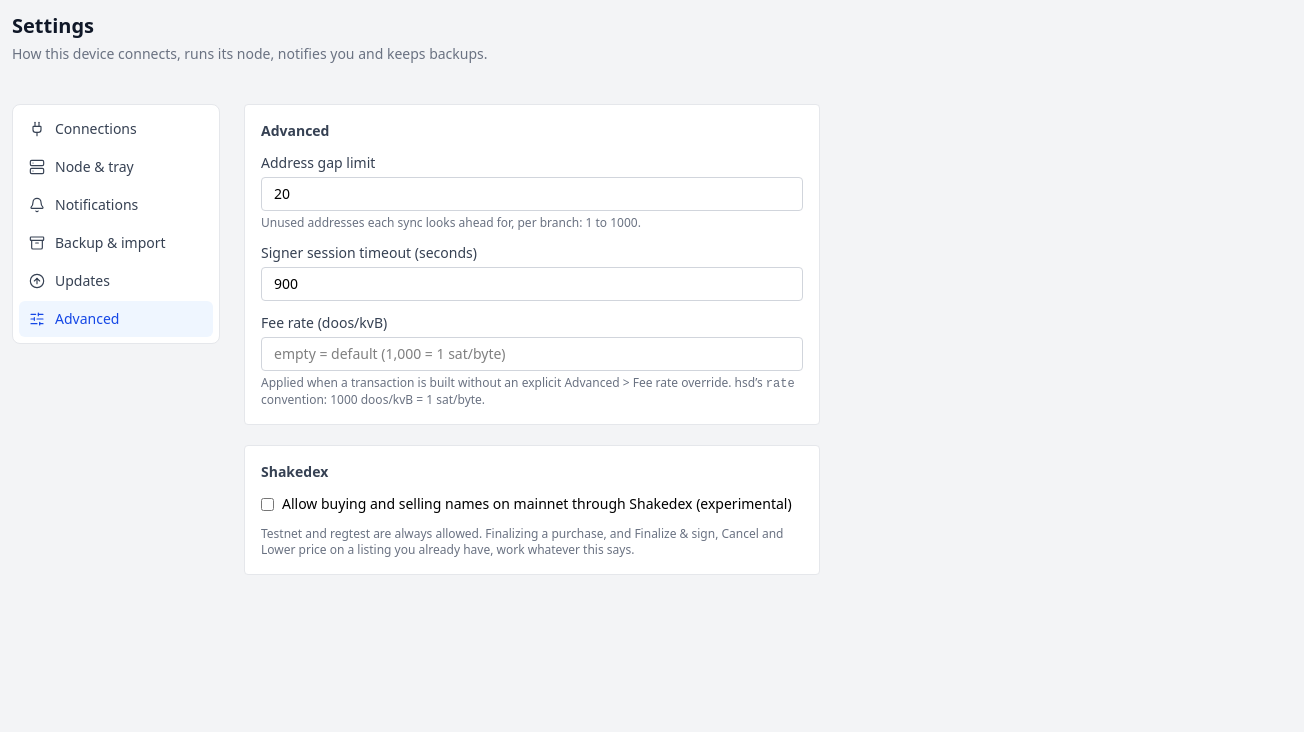
Settings — Fee rate override › shows error when input is non-numeric
This screenshot has width=1304, height=732.
In the field with test id "settings-fee-rate": (532, 354) [261, 337, 803, 371], type "abc"
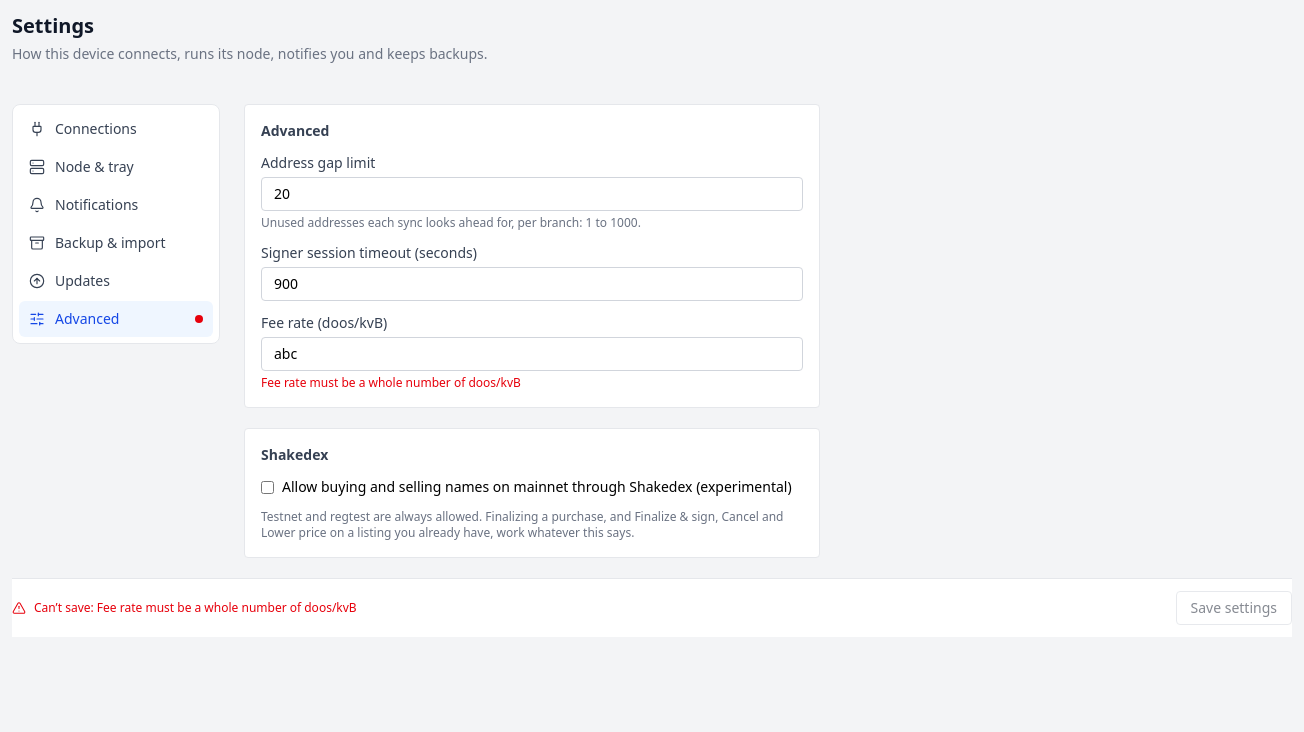
expect the text "Fee rate must be a whole number of doos/kvB" is shown: met, box [261, 374, 521, 391]
